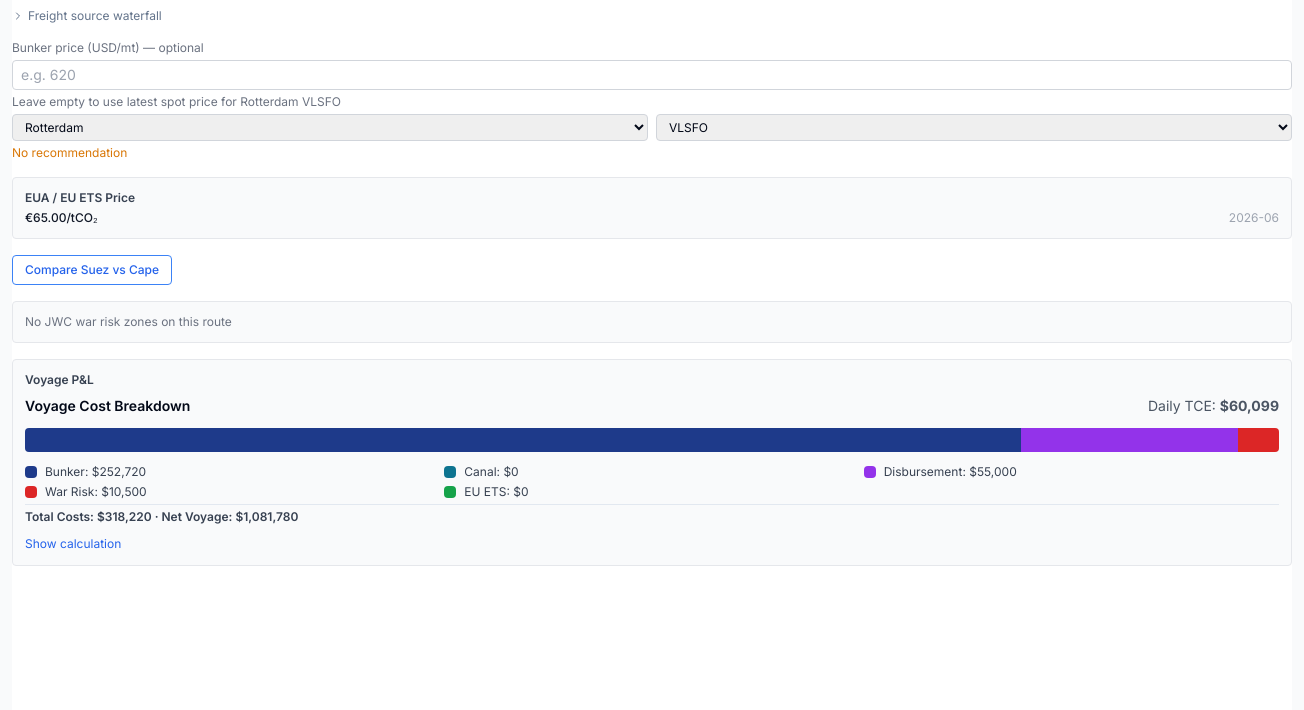
Test case: EconomicsTab — "Показать расчёт" toggle (B3) › toggle button text is English-only (no Cyrillic) — collapsed: "Show calculation", expanded: "Hide calculation"
This screenshot has width=1304, height=710.
Check: the element with test id "voyage-breakdown-chart" is shown, box [25,396,1279,525]
Click the button with test id "show-calc-toggle" at (73, 544), box [25,536,121,552]
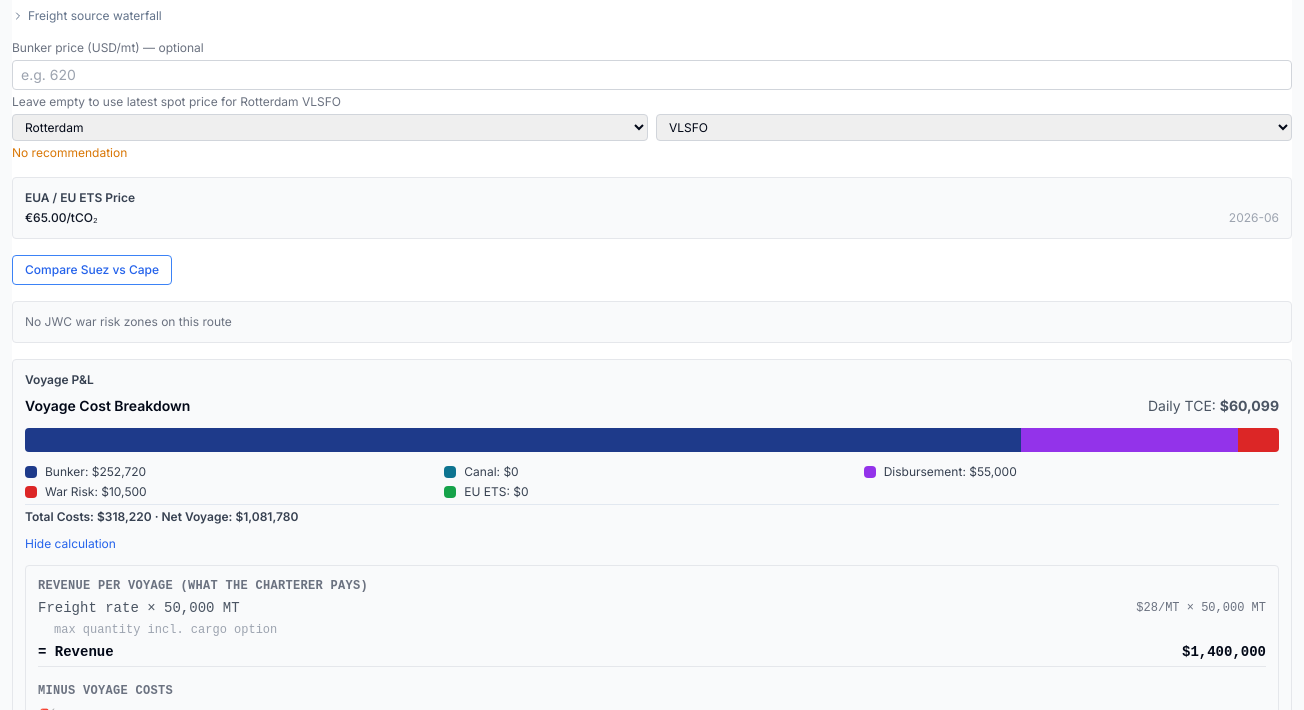
Check: the button with test id "show-calc-toggle" reads "Hide calculation", box [25,536,116,552]
